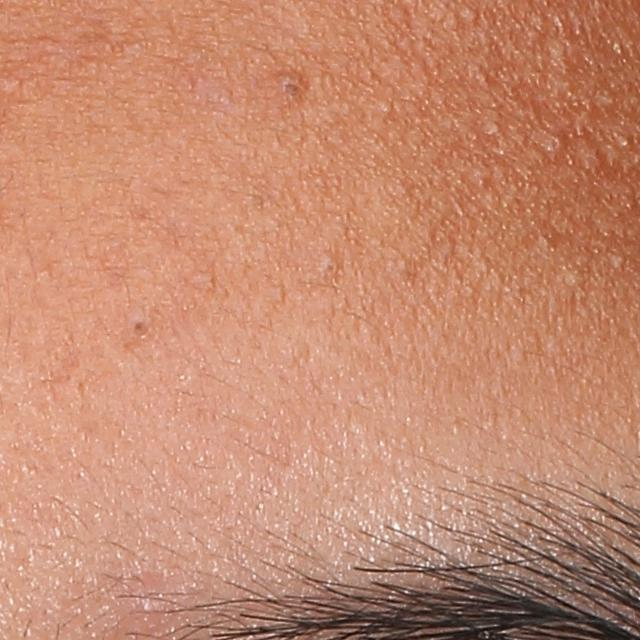comedo: (276, 74, 304, 99), (604, 250, 628, 272), (321, 258, 340, 277), (128, 318, 148, 334)
